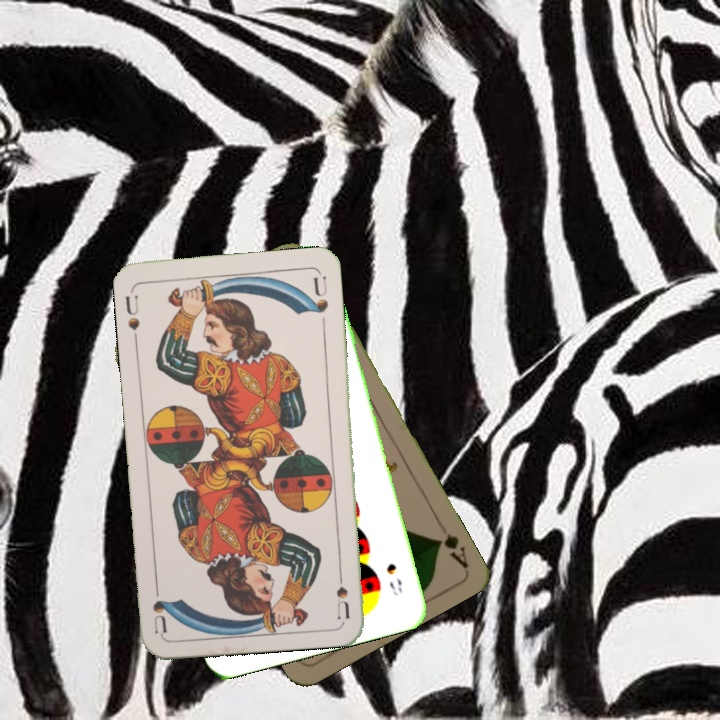GA: (432, 530, 471, 570)
S8: (382, 559, 405, 598)
SU: (332, 561, 352, 620), (121, 291, 142, 333)
